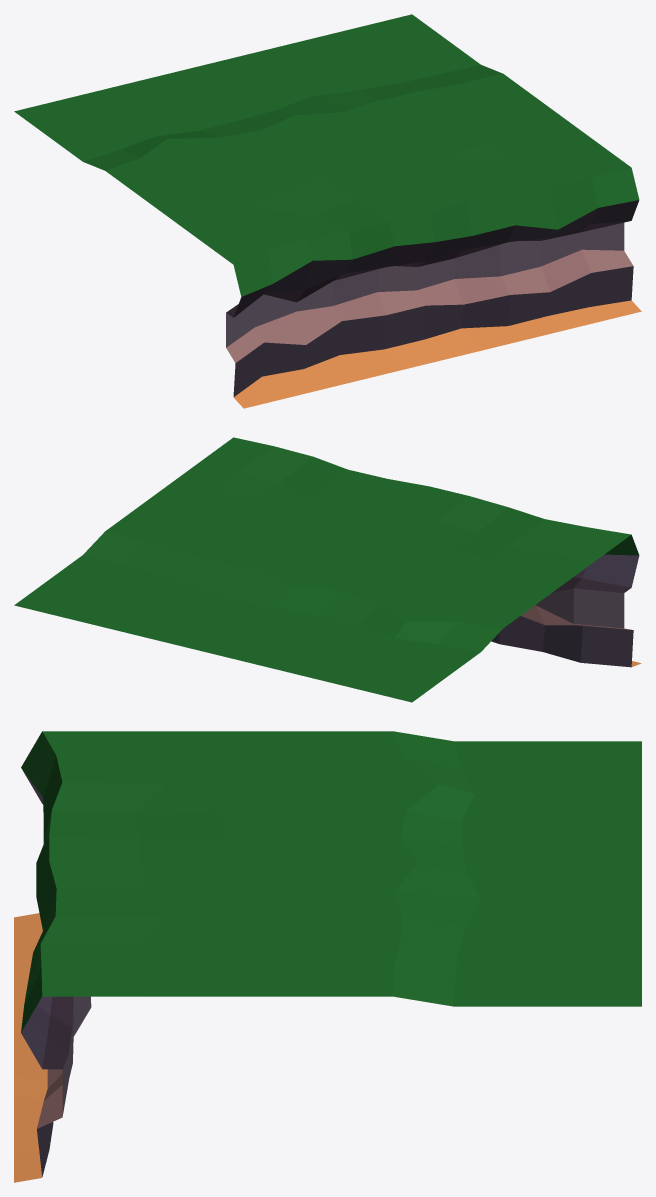
Rendered from Barranco_a_Playa.fbx.
3 views of the same model, one above another, from view 1: azimuth 30°, elevation 25°; view 2: azimuth 150°, elevation 25°; view 3: azimuth 270°, elevation 25° (orthographic). The views are drawn at different scales.
Visible parts, largest first — view 1: Barranco_a_Playa; view 2: Barranco_a_Playa; view 3: Barranco_a_Playa.
Part boxes in pixels (x1,y1,x2,y2): Barranco_a_Playa: (14,14,641,408); Barranco_a_Playa: (14,437,641,702); Barranco_a_Playa: (14,731,641,1182).
Size of the model in its own units: 2000 by 662 by 2000.
